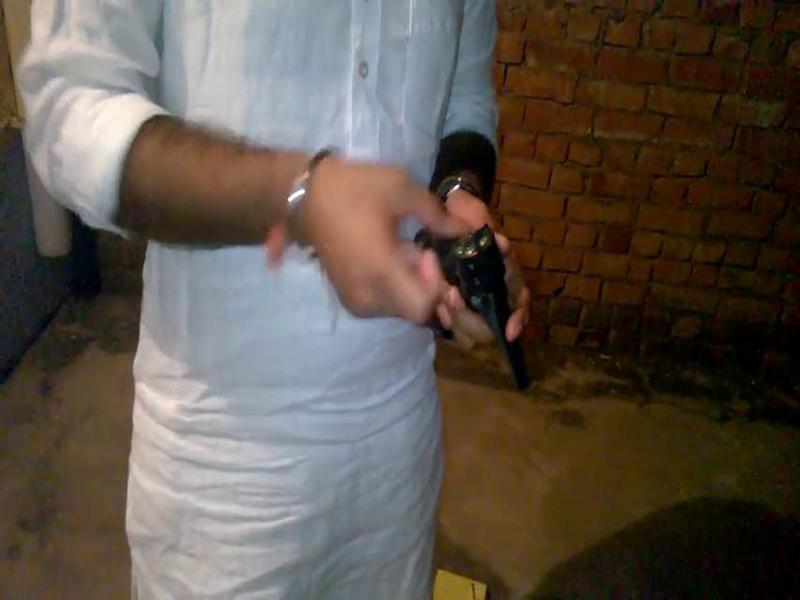Revolver: (408, 210, 558, 410)
